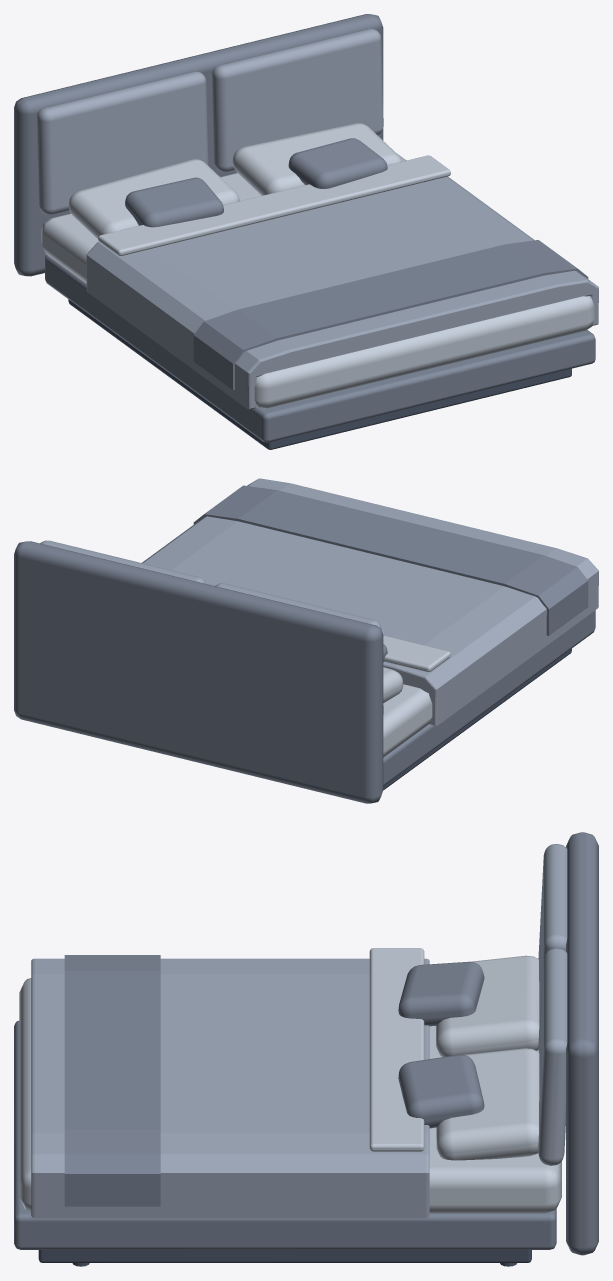
The model's file is bed-lite.glb.
3 renders of one model, top to bottom at view 1: azimuth 30°, elevation 25°; view 2: azimuth 150°, elevation 25°; view 3: azimuth 270°, elevation 25°, orthographic. The views are drawn at different scales.
Visible parts, largest first — view 1: bed; view 2: bed; view 3: bed.
Boxes of the visible parts, x1,y1,x2,y2 form: bed: (14, 14, 598, 449); bed: (14, 478, 598, 803); bed: (14, 832, 598, 1266).
Bounding box in the file's own units: 1.92 × 1.02 × 2.18.
